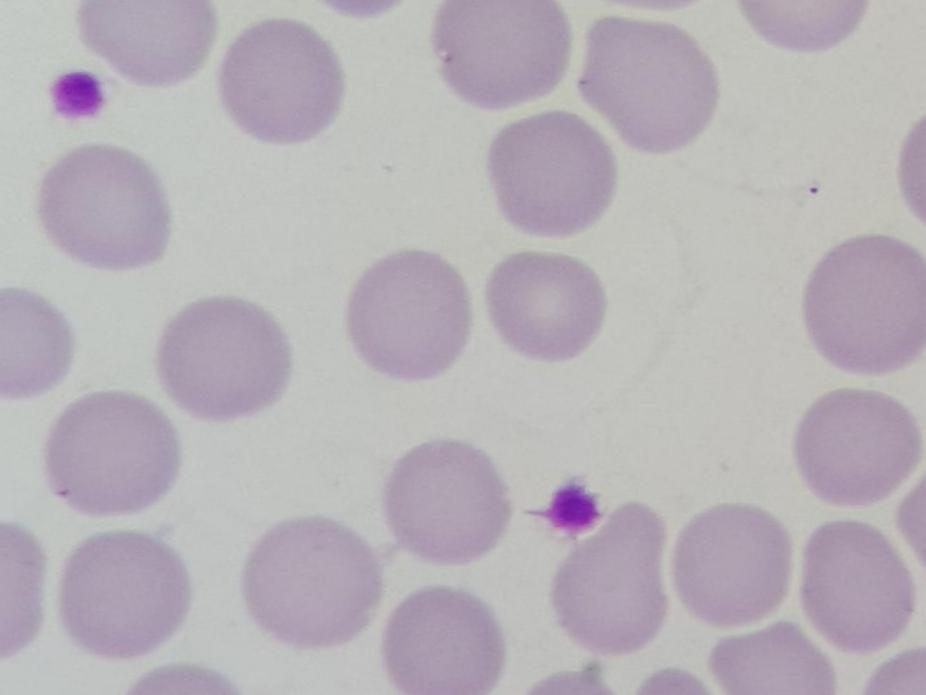Uninfected: (239, 513, 386, 647), (579, 15, 720, 152), (41, 389, 182, 514), (550, 503, 667, 653), (802, 235, 926, 374), (59, 529, 192, 656), (159, 295, 293, 419), (38, 145, 171, 269), (489, 110, 617, 235), (385, 436, 509, 564), (347, 249, 468, 379), (792, 389, 924, 507), (799, 519, 917, 651), (219, 19, 343, 143), (431, 0, 568, 108), (675, 501, 788, 626), (384, 586, 508, 695), (488, 255, 605, 361), (76, 0, 219, 85), (0, 286, 78, 403)
